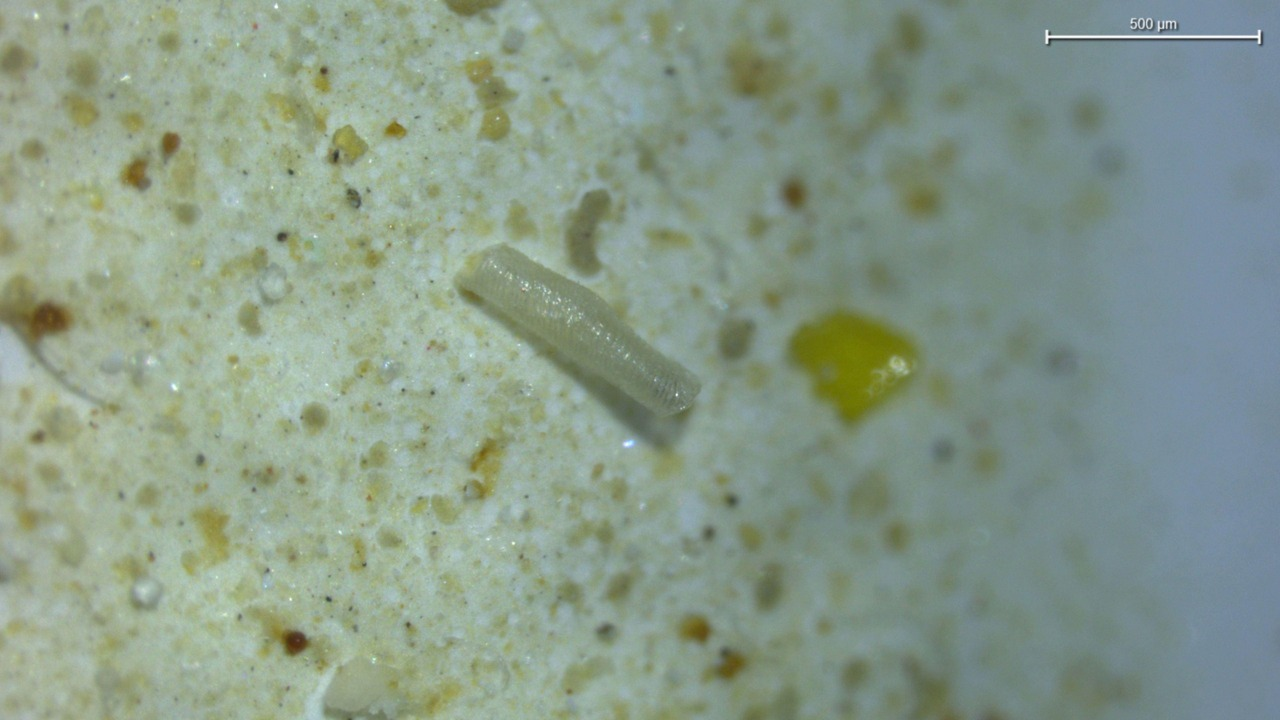microplastic_fragment: (457, 245, 701, 415), (255, 263, 289, 304)
